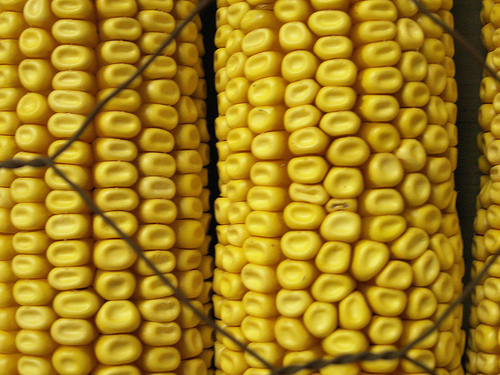corn: (212, 0, 465, 374), (0, 0, 215, 374), (466, 0, 499, 374)
